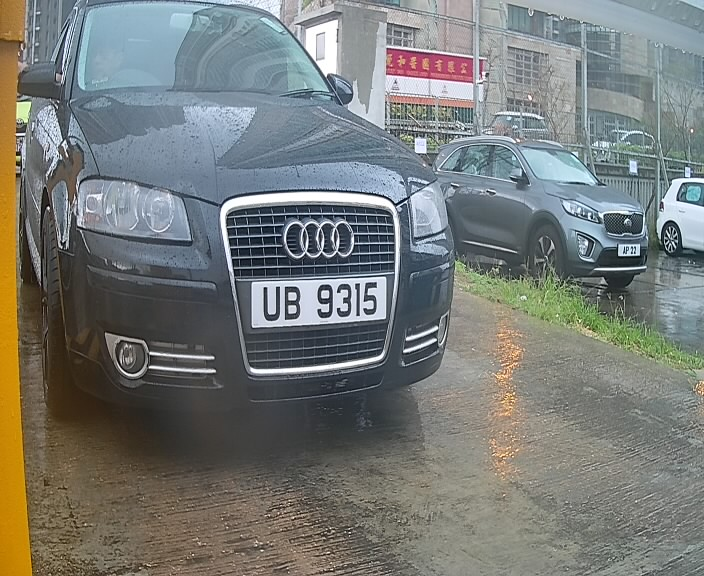Car: (30, 2, 470, 438)
License Plate: (237, 266, 402, 336)
